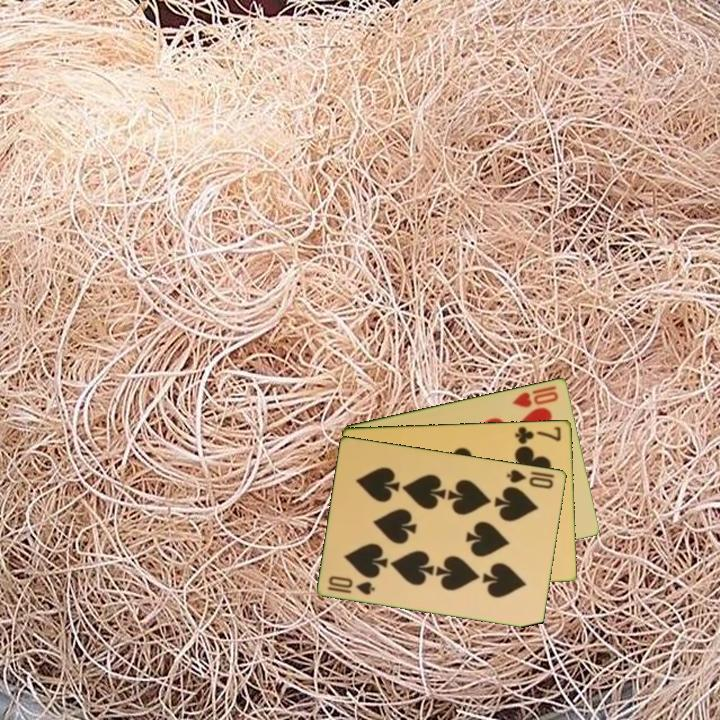10h: (509, 387, 562, 410)
10s: (324, 572, 378, 598), (503, 465, 556, 491)
7c: (512, 423, 564, 447)
